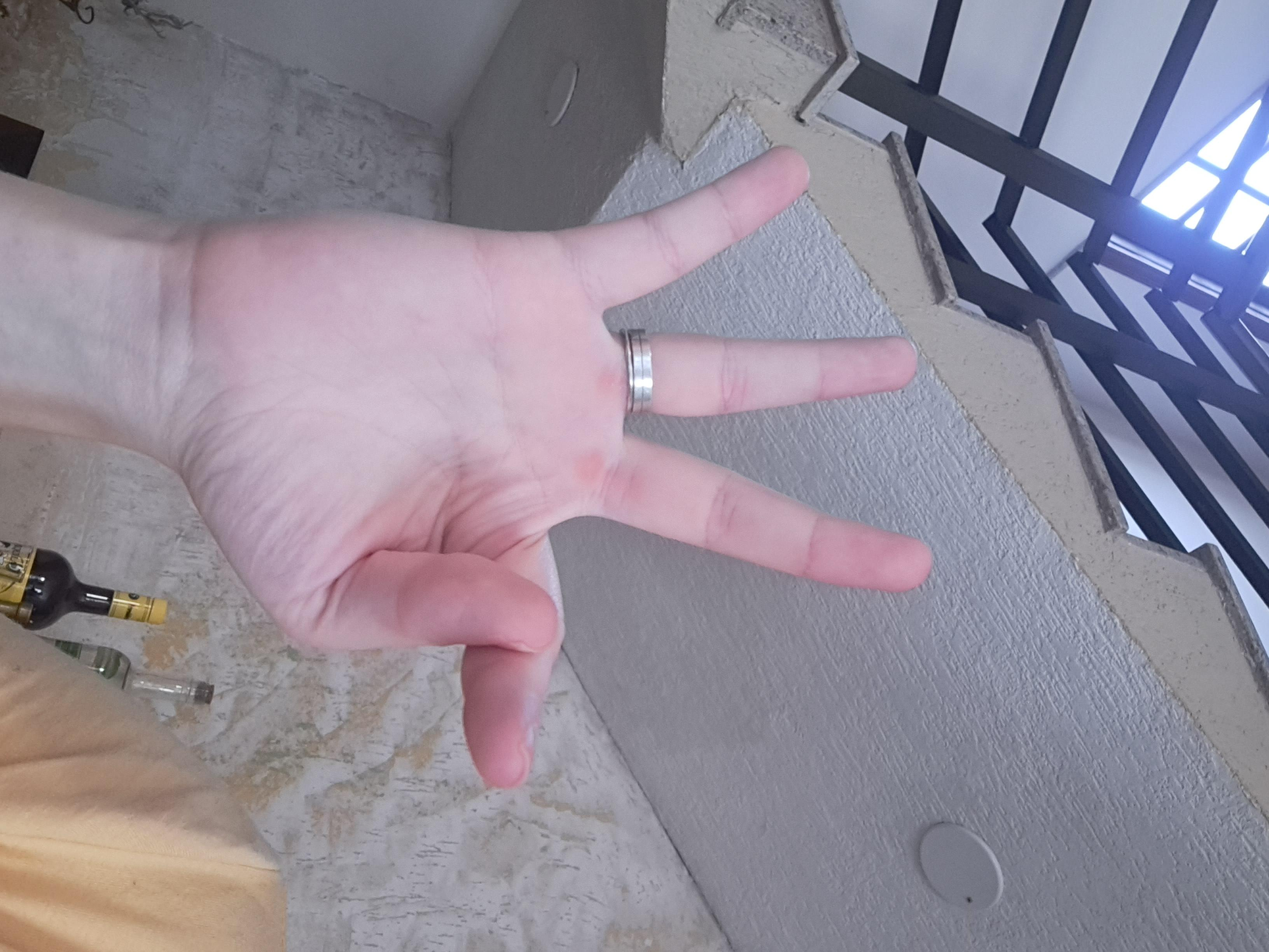T: (156, 236, 1078, 822)
